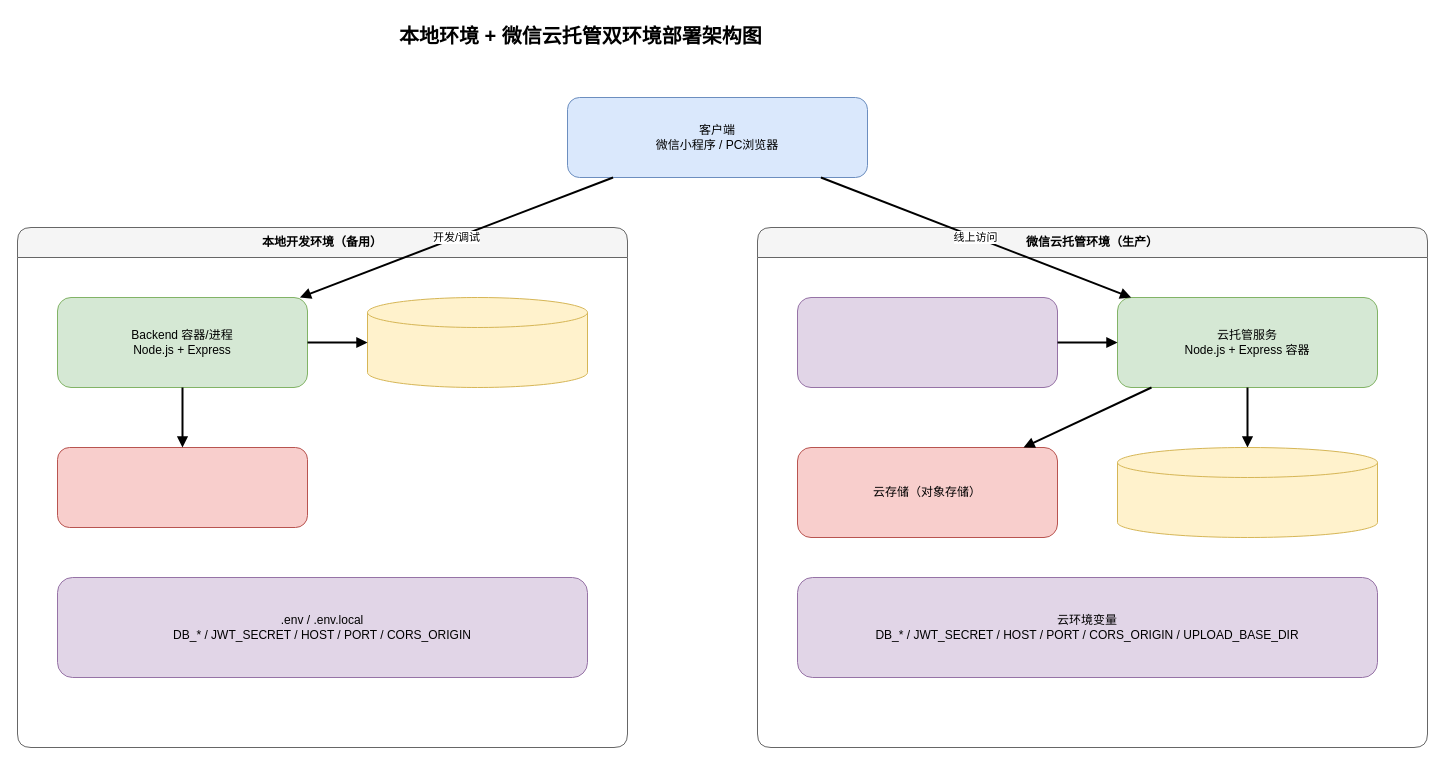
The diagram is 1445 pixels wide and 765 high, and some of its shapes have lost their labels. Each missing label, with the centre of its shape:
CI/CD 构建 Dockerfile 自动构建镜像: the point at 927,342
MySQL 本地实例: the point at 477,342
云 MySQL 实例: the point at 1247,492
本地上传目录 UPLOAD_BASE_DIR: the point at 182,487
